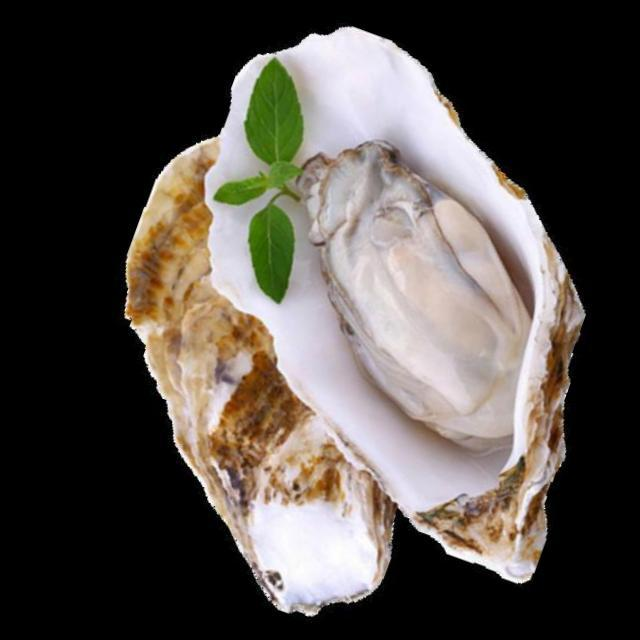Oyster- Indeterminate: (38, 114, 442, 640)
